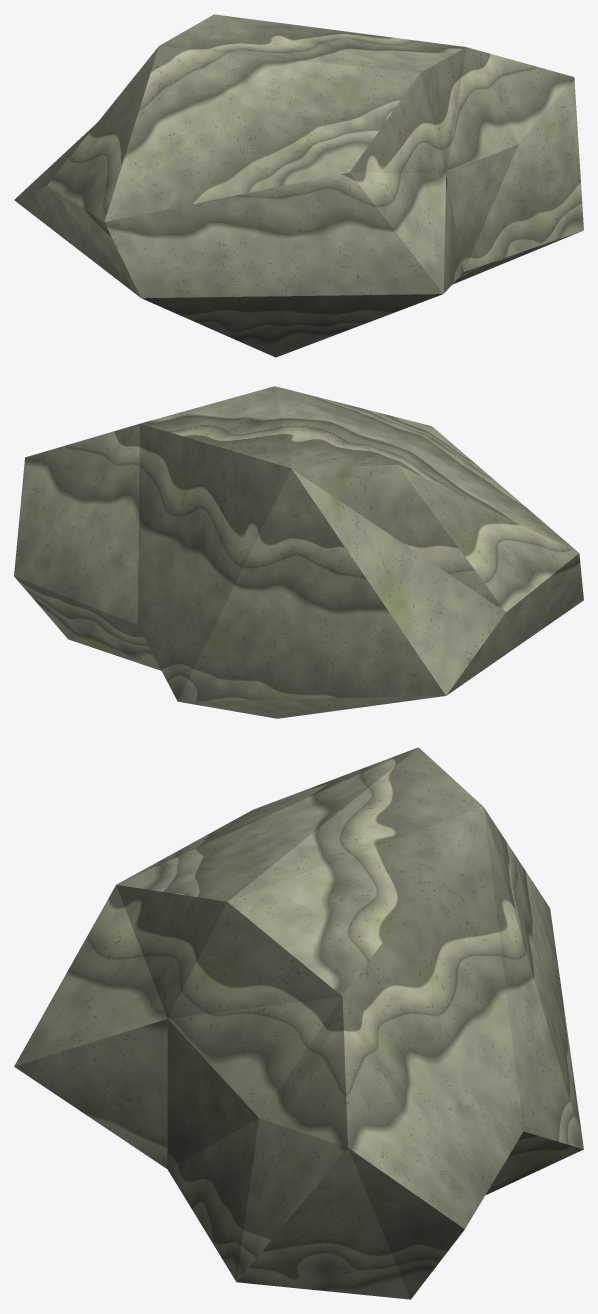
File: rock_b.glb
The picture shows the model from 3 angles, top to bottom: view 1: azimuth 30°, elevation 25°; view 2: azimuth 150°, elevation 25°; view 3: azimuth 270°, elevation 25°; orthographic projection. The views are drawn at different scales.
Parts seen in each view (by area): view 1: rock_b; view 2: rock_b; view 3: rock_b.
Boxes of the visible parts, <box> form: rock_b: <box>14,14,583,357</box>; rock_b: <box>14,386,583,718</box>; rock_b: <box>14,747,583,1299</box>.
Size of the model in its own units: 2.55 by 1.21 by 1.85.
Materials: 1 (1 with a texture image).
